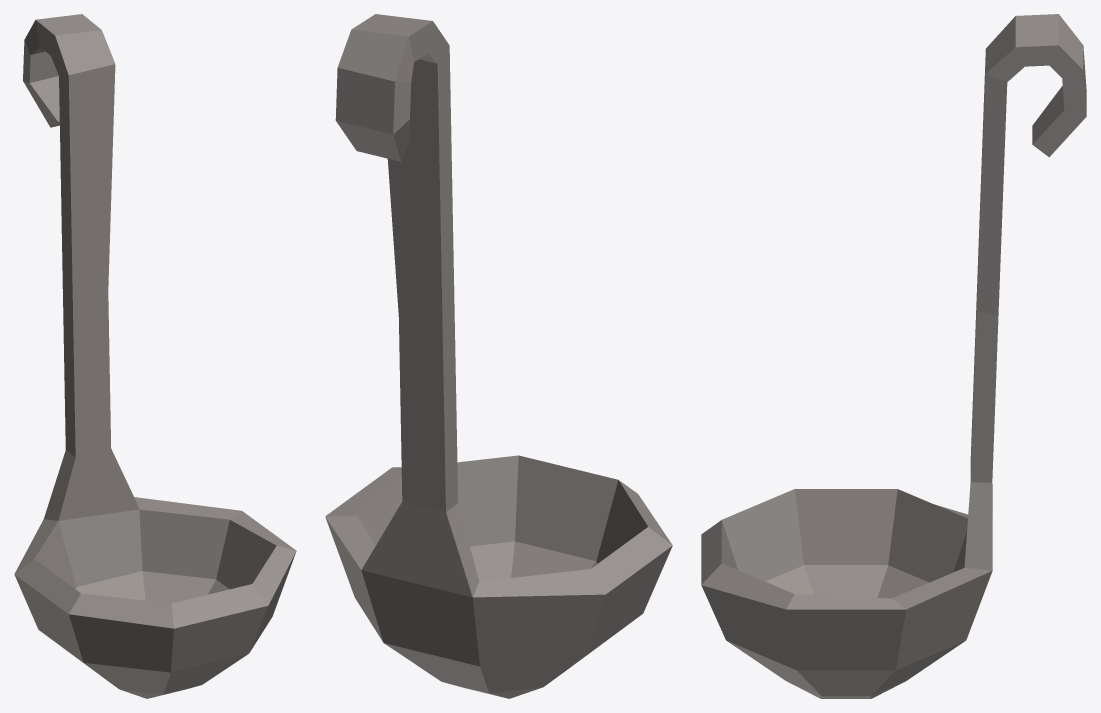
The model's file is SM_Ladle.gltf.
The picture shows the model from 3 angles, left to right: view 1: azimuth 30°, elevation 25°; view 2: azimuth 150°, elevation 25°; view 3: azimuth 270°, elevation 25°; orthographic projection. The views are drawn at different scales.
Parts seen in each view (by area): view 1: SM_Ladle; view 2: SM_Ladle; view 3: SM_Ladle.
Boxes of the visible parts, box(x1,y1,x2,y2) form: SM_Ladle: box(14, 14, 296, 698); SM_Ladle: box(325, 14, 672, 698); SM_Ladle: box(701, 14, 1086, 698).
Size of the model in its own units: 0.1477 by 0.3722 by 0.1964.
Materials: 1 (1 with a texture image).
